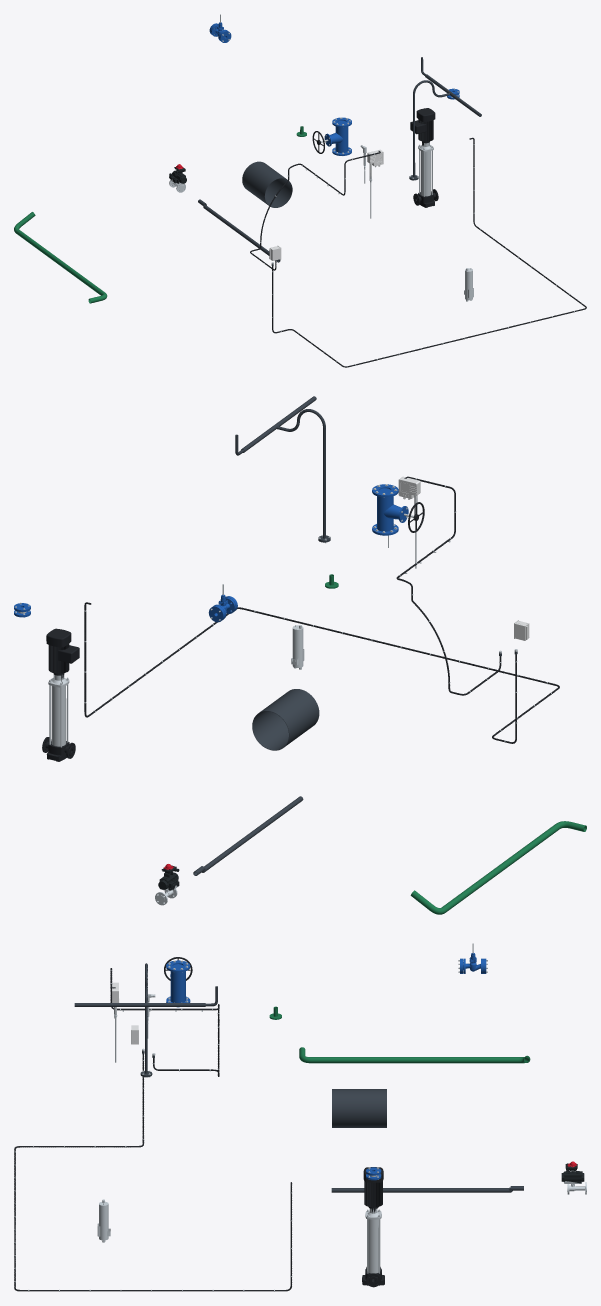
The model's file is s4000-4-DmK2WKU5.glb.
3 views of the same model, one above another, from view 1: azimuth 30°, elevation 25°; view 2: azimuth 150°, elevation 25°; view 3: azimuth 270°, elevation 25° (orthographic). The views are drawn at different scales.
Visible parts, largest first — view 1: flue_spacer / dark, wiring_pump_1 / black, deaerator_feed / green, steam_manual / blue, pressure_header / dark, pump_2 CAD solid 15, pump_2 CAD solid 2, wiring_lcs600 / black; view 2: flue_spacer / dark, wiring_pump_1 / black, deaerator_feed / green, pressure_header / dark, steam_manual / blue, pump_2 CAD solid 15, pump_2 CAD solid 2, wiring_lcs600 / black, bottom_piping / dark, bcv7432 / bcv7432_0.npz; view 3: flue_spacer / dark, deaerator_feed / green, wiring_pump_1 / black, pressure_header / dark, bottom_piping / dark, steam_manual / blue, pump_2 CAD solid 2, wiring_lcs600 / black, pump_2 CAD solid 15, bcv7432 / bcv7432_0.npz.
Boxes of the visible parts, bbox=[...] form: flue_spacer / dark: bbox=[242, 161, 292, 207]; wiring_pump_1 / black: bbox=[272, 137, 586, 367]; deaerator_feed / green: bbox=[14, 212, 107, 303]; steam_manual / blue: bbox=[324, 117, 351, 155]; pressure_header / dark: bbox=[409, 57, 481, 180]; pump_2 CAD solid 15: bbox=[410, 108, 435, 142]; pump_2 CAD solid 2: bbox=[420, 151, 431, 196]; wiring_lcs600 / black: bbox=[250, 151, 380, 270]; flue_spacer / dark: bbox=[252, 689, 319, 750]; wiring_pump_1 / black: bbox=[84, 602, 559, 743]; deaerator_feed / green: bbox=[410, 821, 586, 914]; pressure_header / dark: bbox=[235, 396, 330, 542]; steam_manual / blue: bbox=[372, 484, 408, 535]; pump_2 CAD solid 15: bbox=[46, 628, 79, 674]; pump_2 CAD solid 2: bbox=[51, 686, 66, 746]; wiring_lcs600 / black: bbox=[396, 476, 501, 695]; bottom_piping / dark: bbox=[202, 796, 303, 872]; bcv7432 / bcv7432_0.npz: bbox=[155, 864, 179, 905]; flue_spacer / dark: bbox=[332, 1089, 386, 1127]; deaerator_feed / green: bbox=[299, 1047, 530, 1063]; wiring_pump_1 / black: bbox=[14, 1054, 292, 1291]; pressure_header / dark: bbox=[74, 963, 217, 1077]; bottom_piping / dark: bbox=[331, 1187, 512, 1192]; steam_manual / blue: bbox=[166, 960, 190, 1007]; pump_2 CAD solid 2: bbox=[367, 1219, 380, 1273]; wiring_lcs600 / black: bbox=[110, 968, 219, 1076]; pump_2 CAD solid 15: bbox=[363, 1167, 383, 1207]; bcv7432 / bcv7432_0.npz: bbox=[561, 1161, 586, 1194].
Size of the model in its own units: 5.09 by 2.72 by 5.22.
